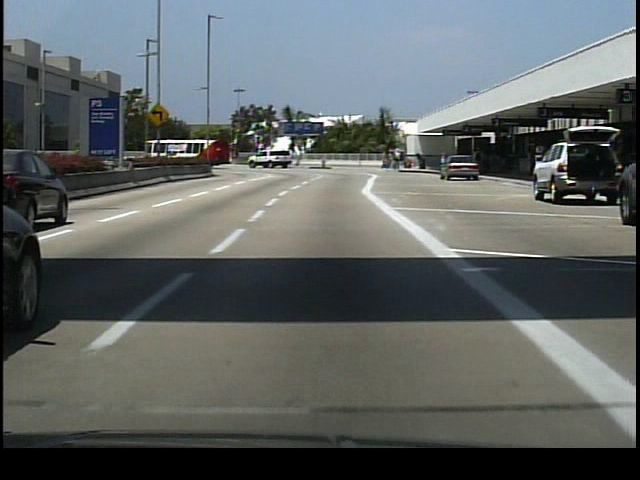person: (471, 149, 487, 179), (392, 148, 402, 175)
